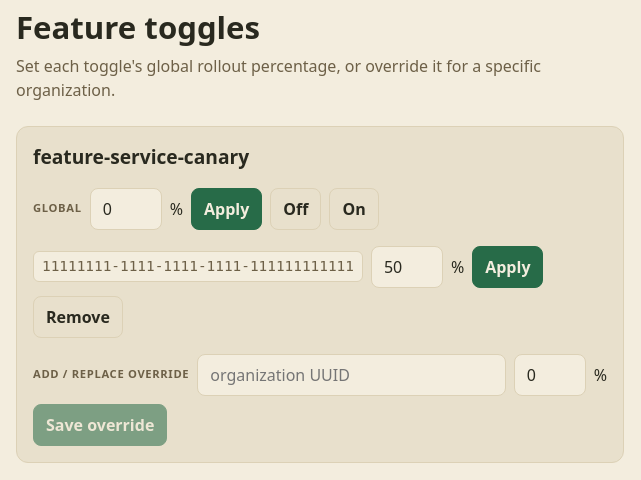
FeatureTogglesPageComponent › re-fetches the toggle after removing an organization override
This screenshot has width=641, height=480.
Click the button with test id "override-remove": x=78, y=317 top-left (33, 296), bottom-right (123, 338)
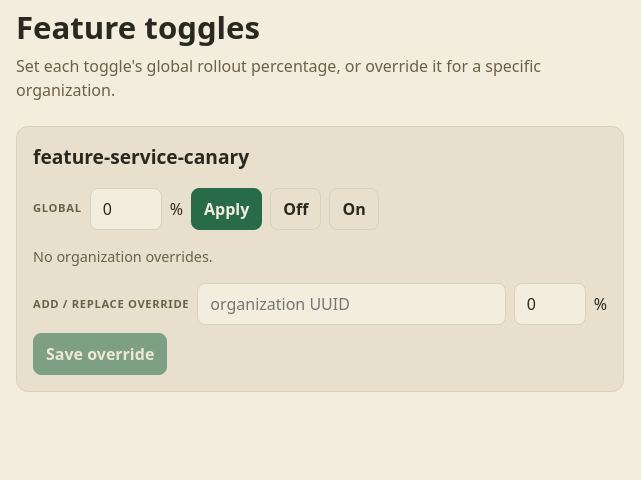
Check: the text "11111111-1111-1111-1111-111111111111" is gone
